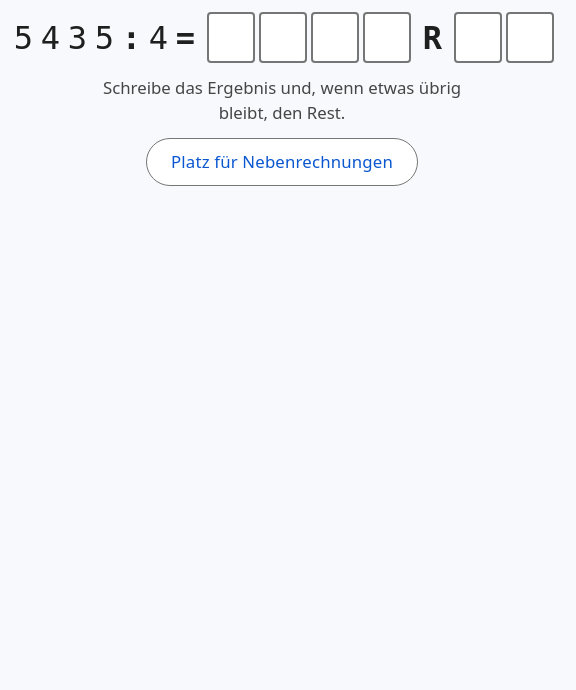
Test: WrittenInput › division: quotient left to right, then the remainder
This screenshot has width=576, height=690.
Type "1" into the field named "Ergebnis, 1. Ziffer". click: (231, 38)
box: [207,12,255,63]
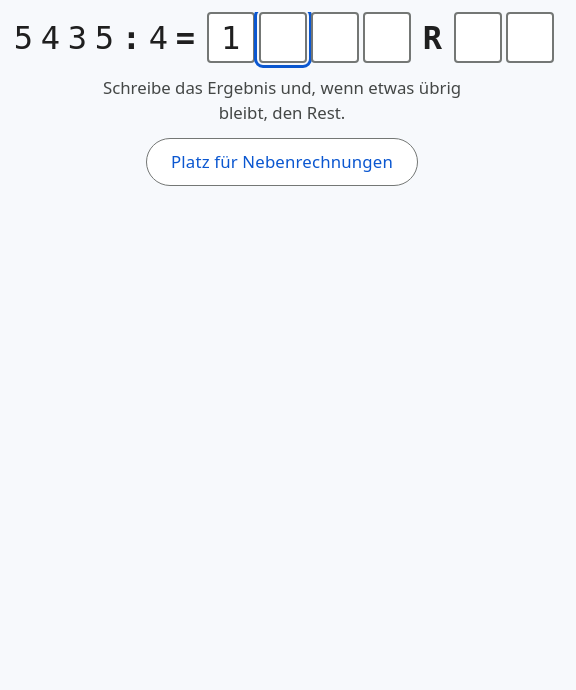
Type "3" into the field named "Ergebnis, 2. Ziffer". click: (283, 38)
box: [259,12,307,63]
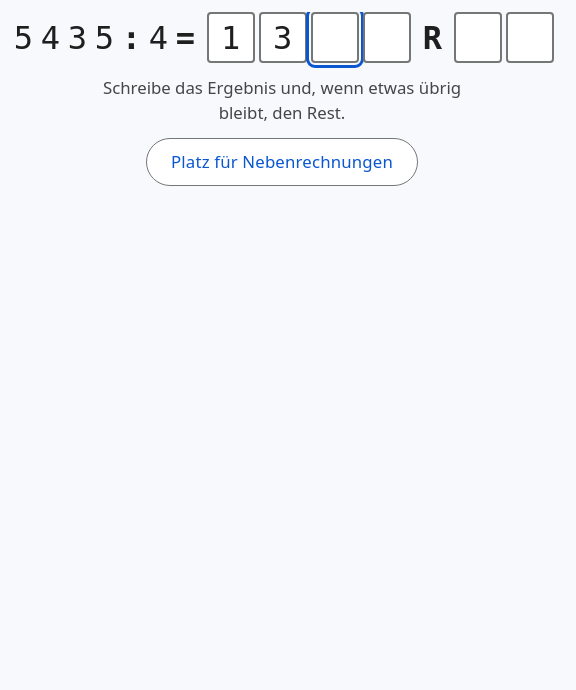
Type "5" into the field named "Ergebnis, 3. Ziffer". click: (335, 38)
box: [311,12,359,63]
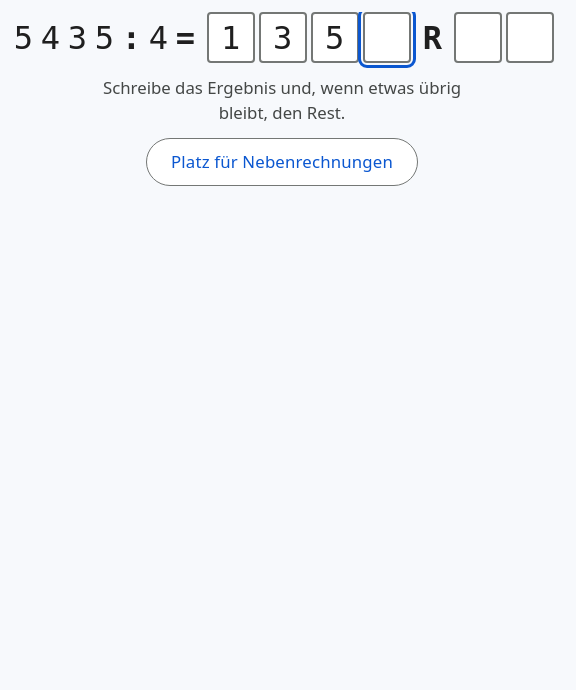
Type "8" into the field named "Ergebnis, 4. Ziffer". click: (387, 38)
box: [363,12,411,63]
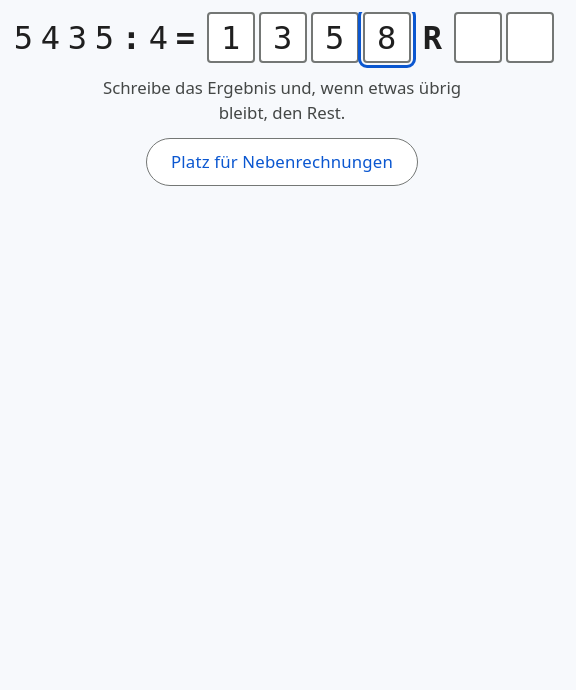
Type "3" into the field named "Rest, 1. Ziffer". click: (478, 38)
box: [454,12,502,63]
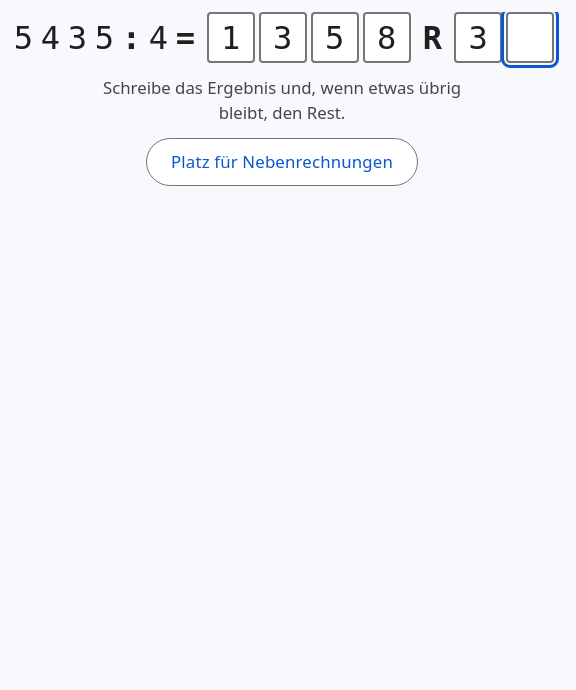
Click the button "Platz für Nebenrechnungen". click: click(282, 162)
box: [146,138,418,186]
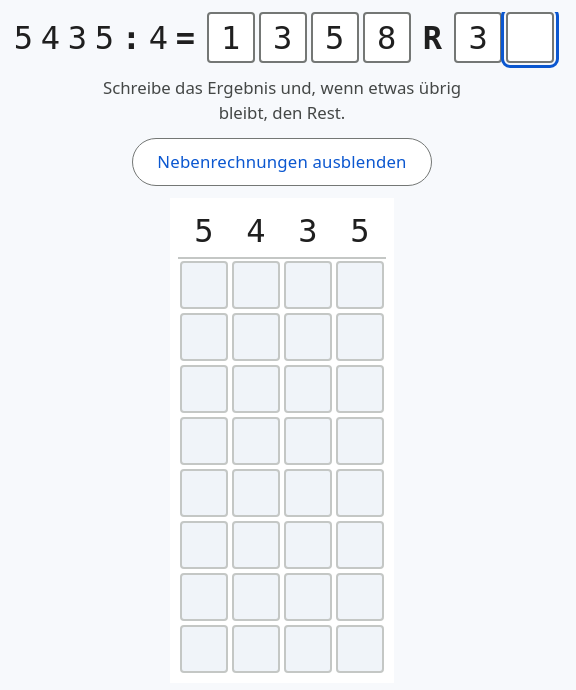
Now the field named "Nebenrechnung, Zeile 1, Spalte 1" is shown, box [180,261,228,309]
